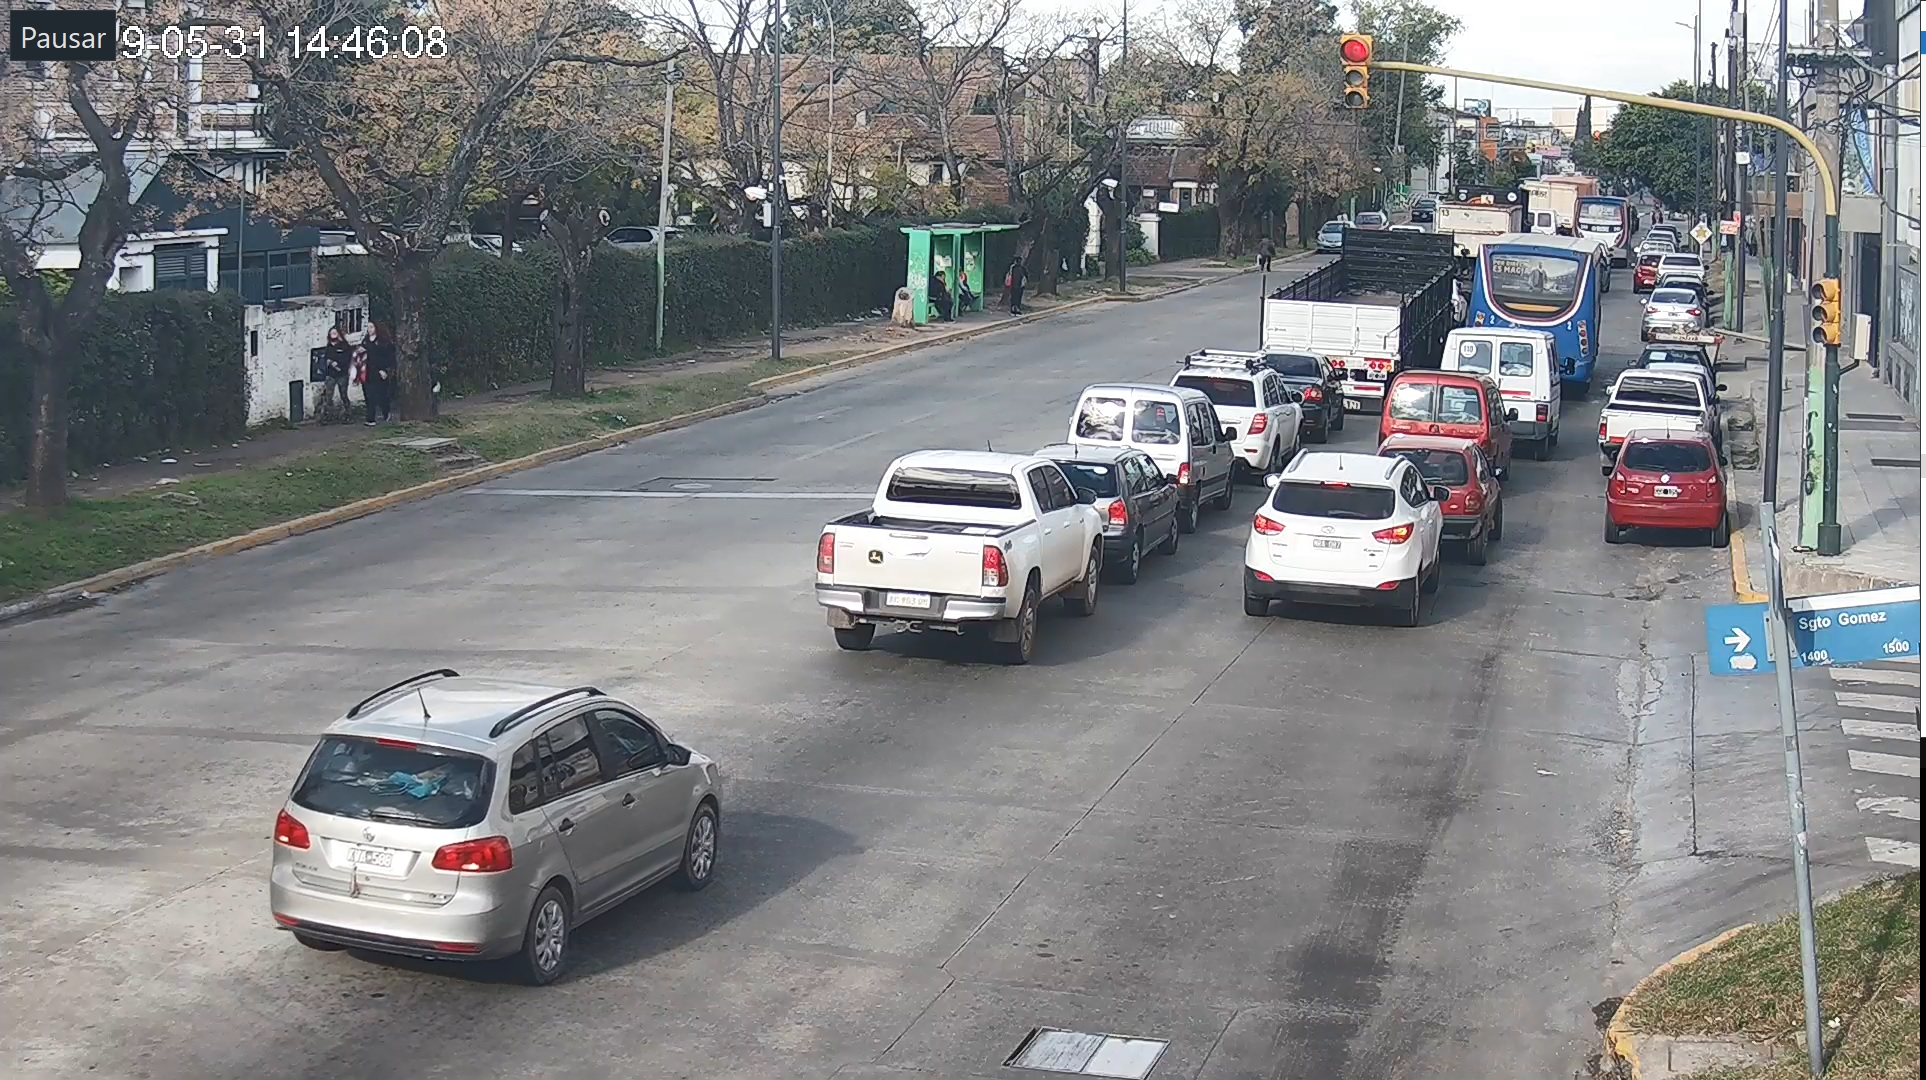car: (270, 668, 729, 978), (814, 453, 1101, 660), (1247, 453, 1444, 629), (1606, 429, 1729, 543)
